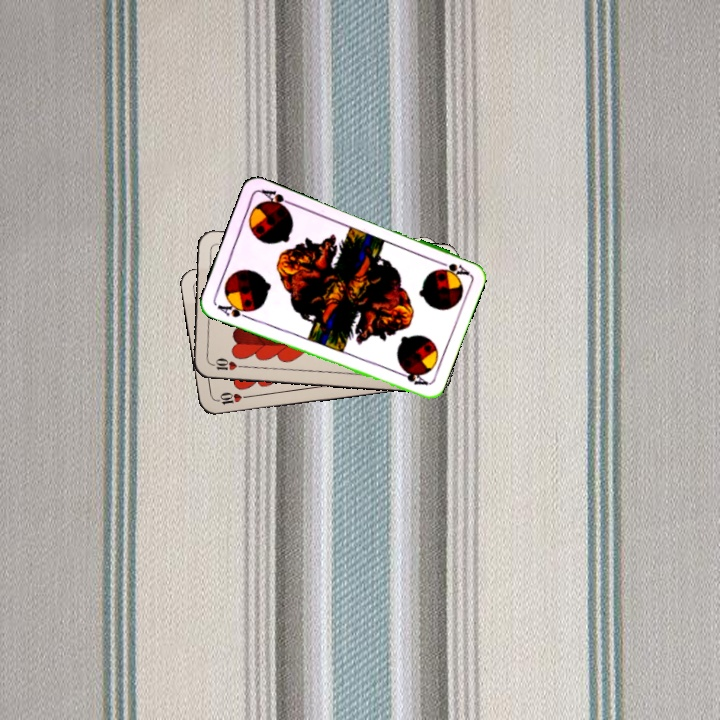H10: (212, 389, 252, 408), (206, 355, 247, 373)
SA: (213, 298, 254, 321), (432, 256, 472, 279)
